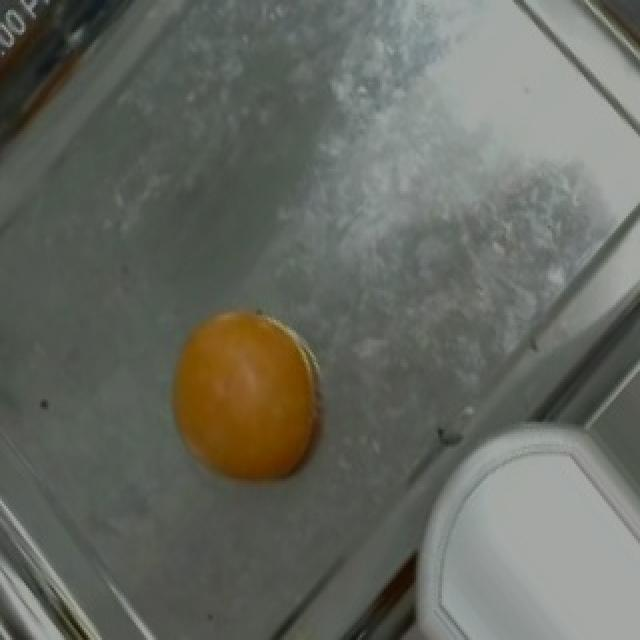Fruit: (156, 293, 340, 496)
